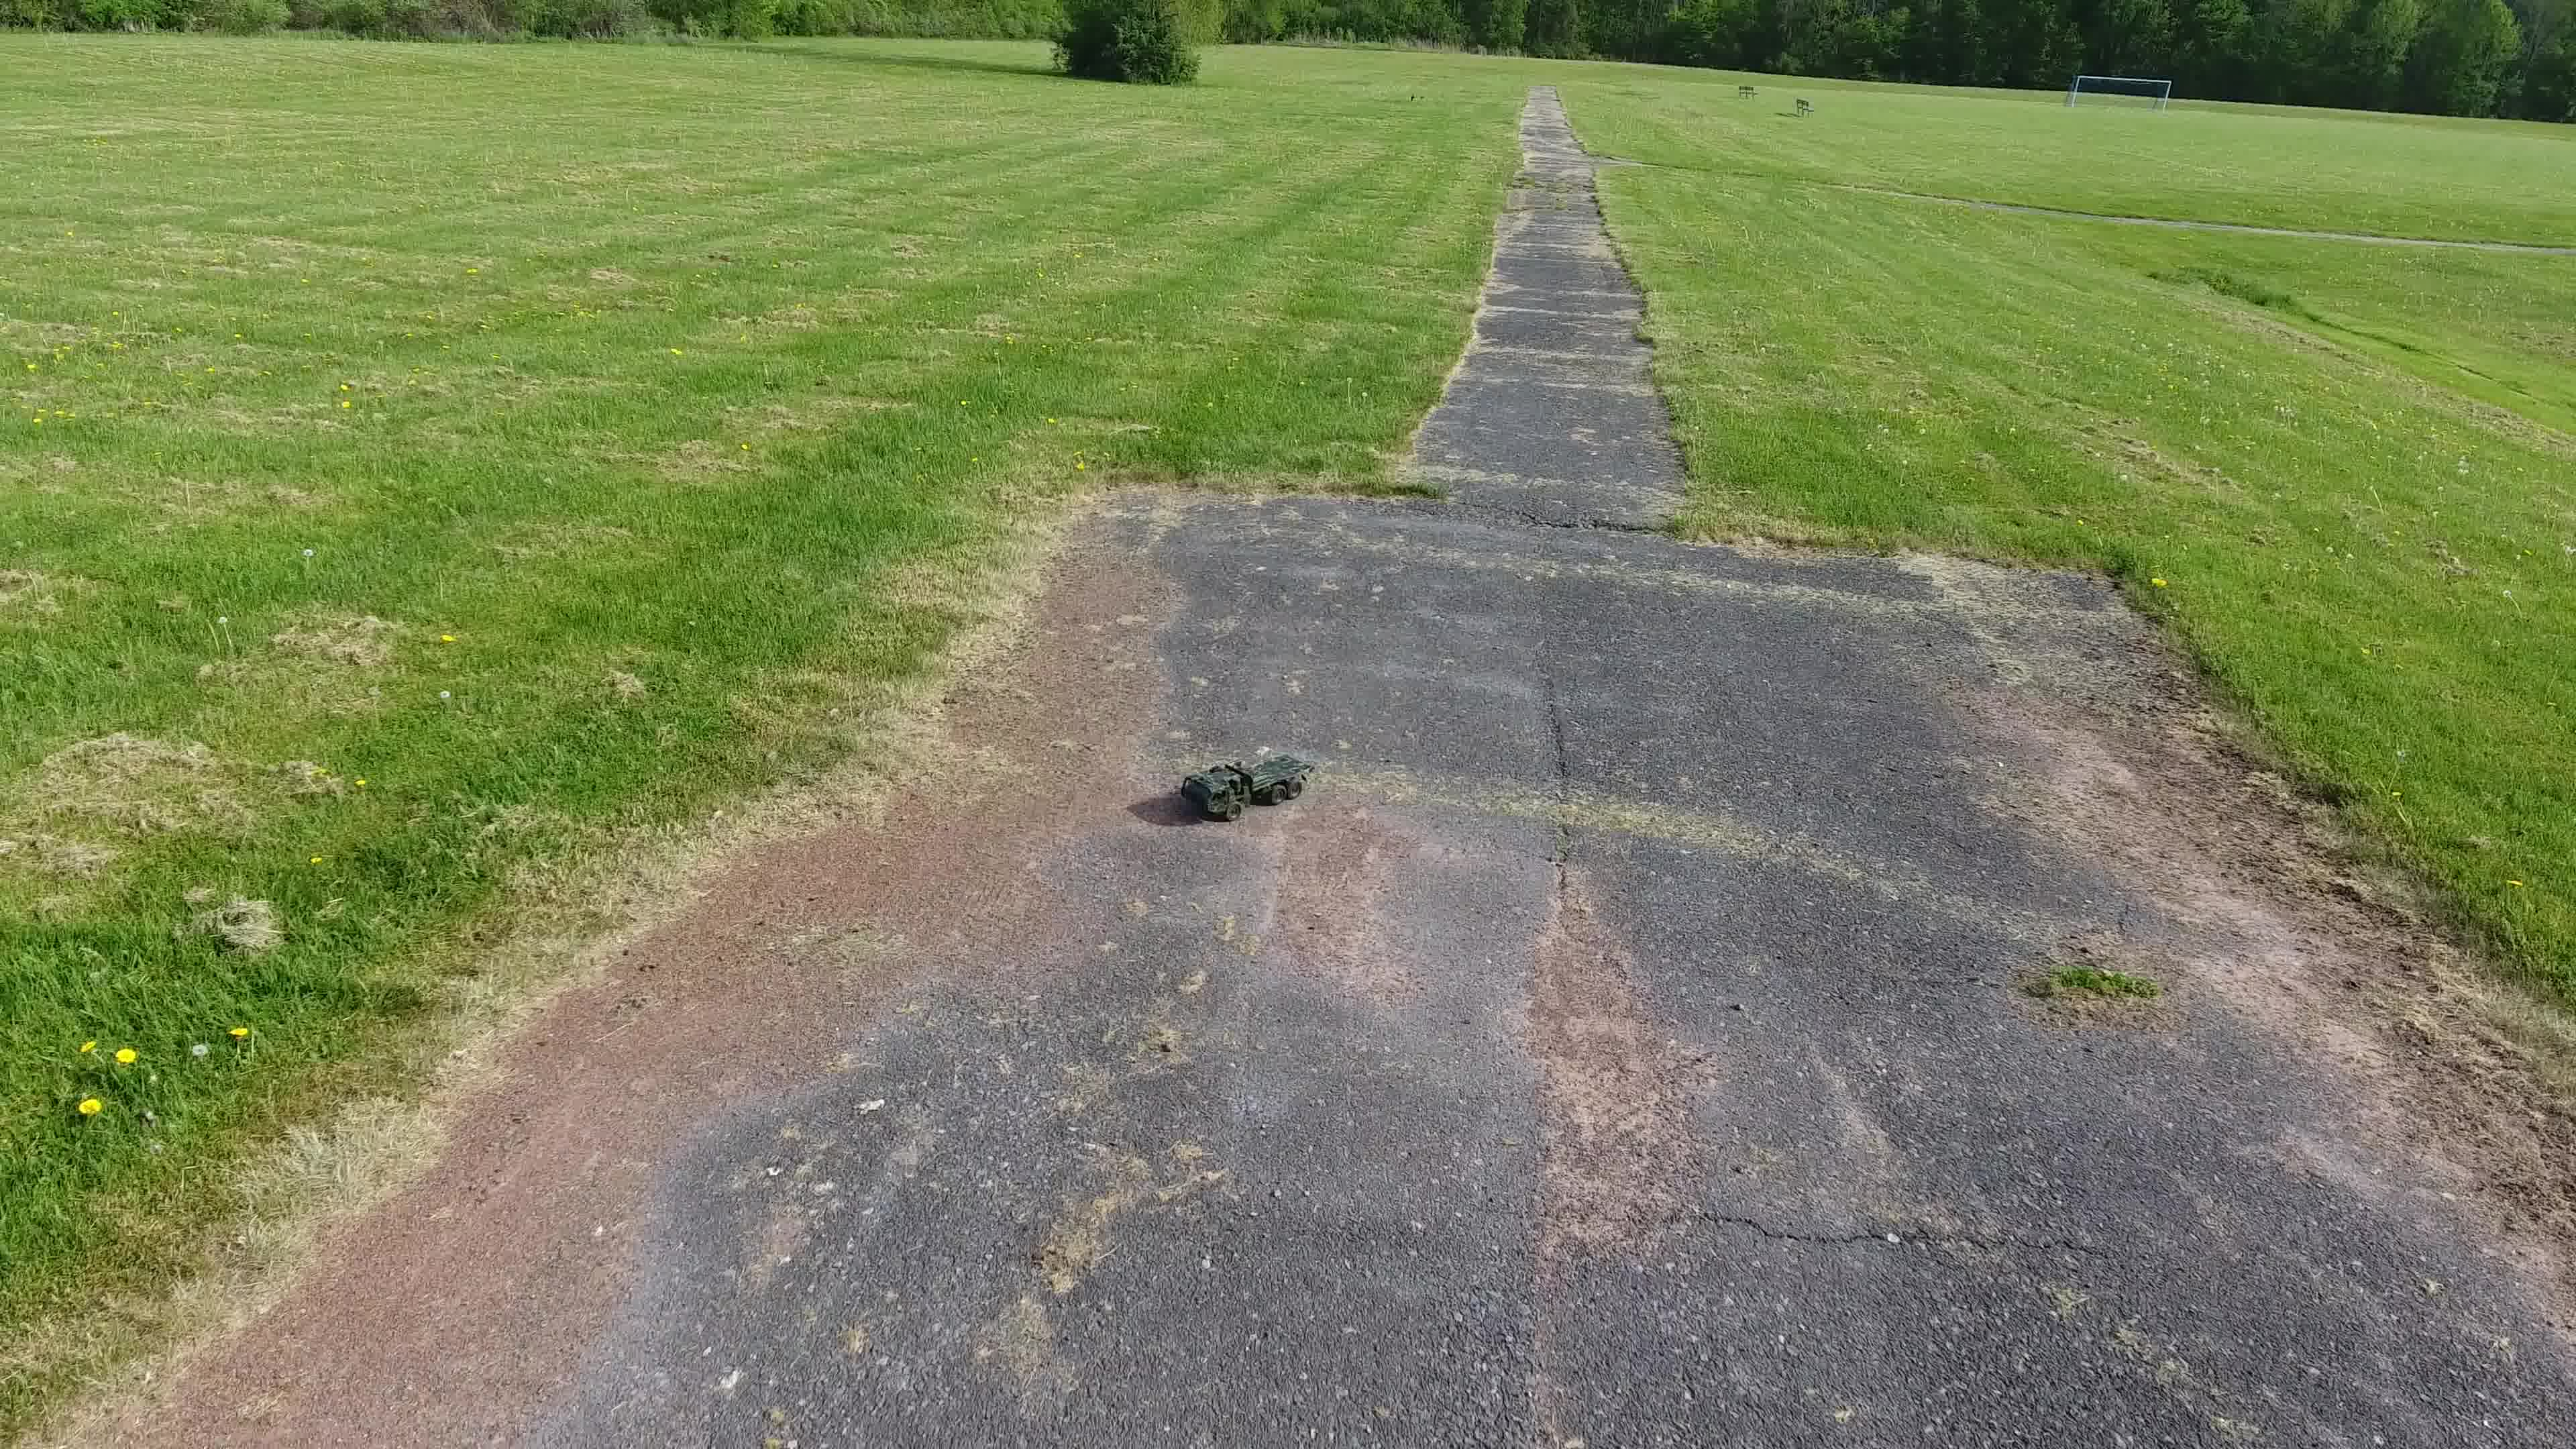transporter9_camo: (1175, 748, 1316, 824)
